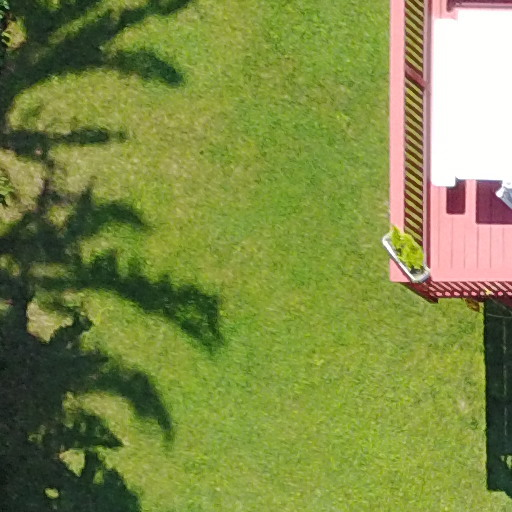porch: (322, 1, 510, 341)
